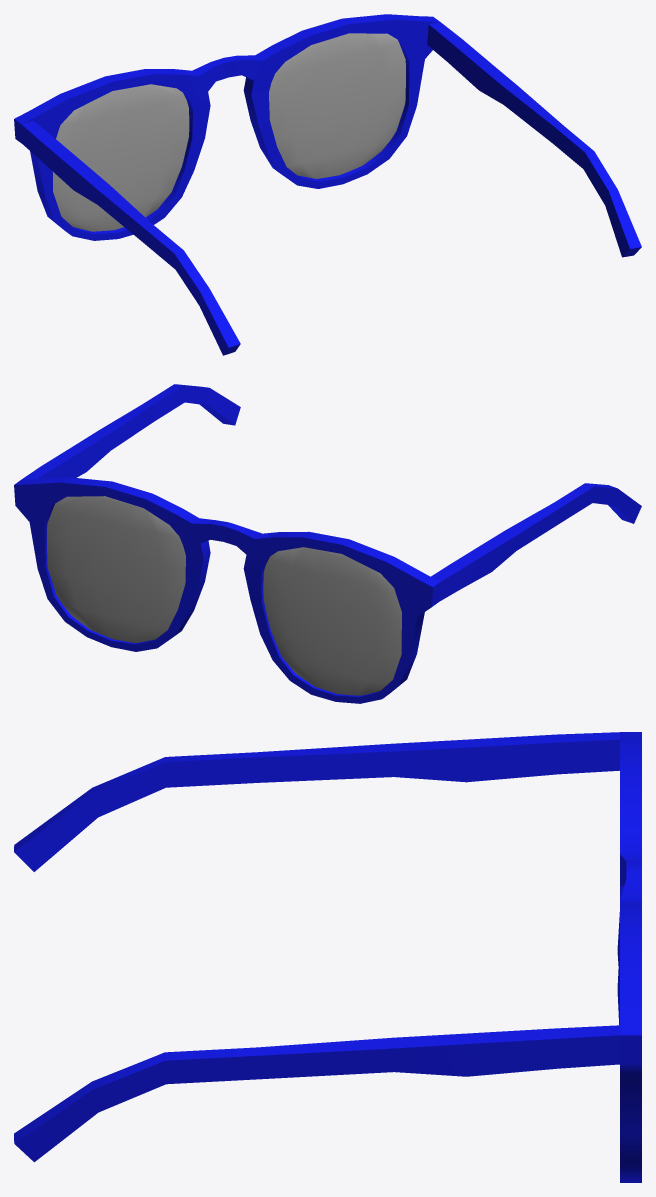
File: blue Sunglasses.fbx
3 views of the same model, one above another, from view 1: azimuth 30°, elevation 25°; view 2: azimuth 150°, elevation 25°; view 3: azimuth 270°, elevation 25° (orthographic). The views are drawn at different scales.
Visible parts, largest first — view 1: Linse, Rahmen, Bügel; view 2: Linse, Rahmen, Bügel; view 3: Bügel, Rahmen.
Boxes of the visible parts, bbox=[...] form: Linse: bbox=[52, 33, 405, 231]; Rahmen: bbox=[14, 14, 439, 240]; Bügel: bbox=[21, 22, 641, 355]; Linse: bbox=[46, 496, 401, 695]; Rahmen: bbox=[14, 477, 440, 703]; Bügel: bbox=[22, 384, 641, 601]; Bügel: bbox=[14, 732, 619, 1162]; Rahmen: bbox=[617, 732, 641, 1182].
Bounding box in the file's own units: 744 × 268 × 648.
